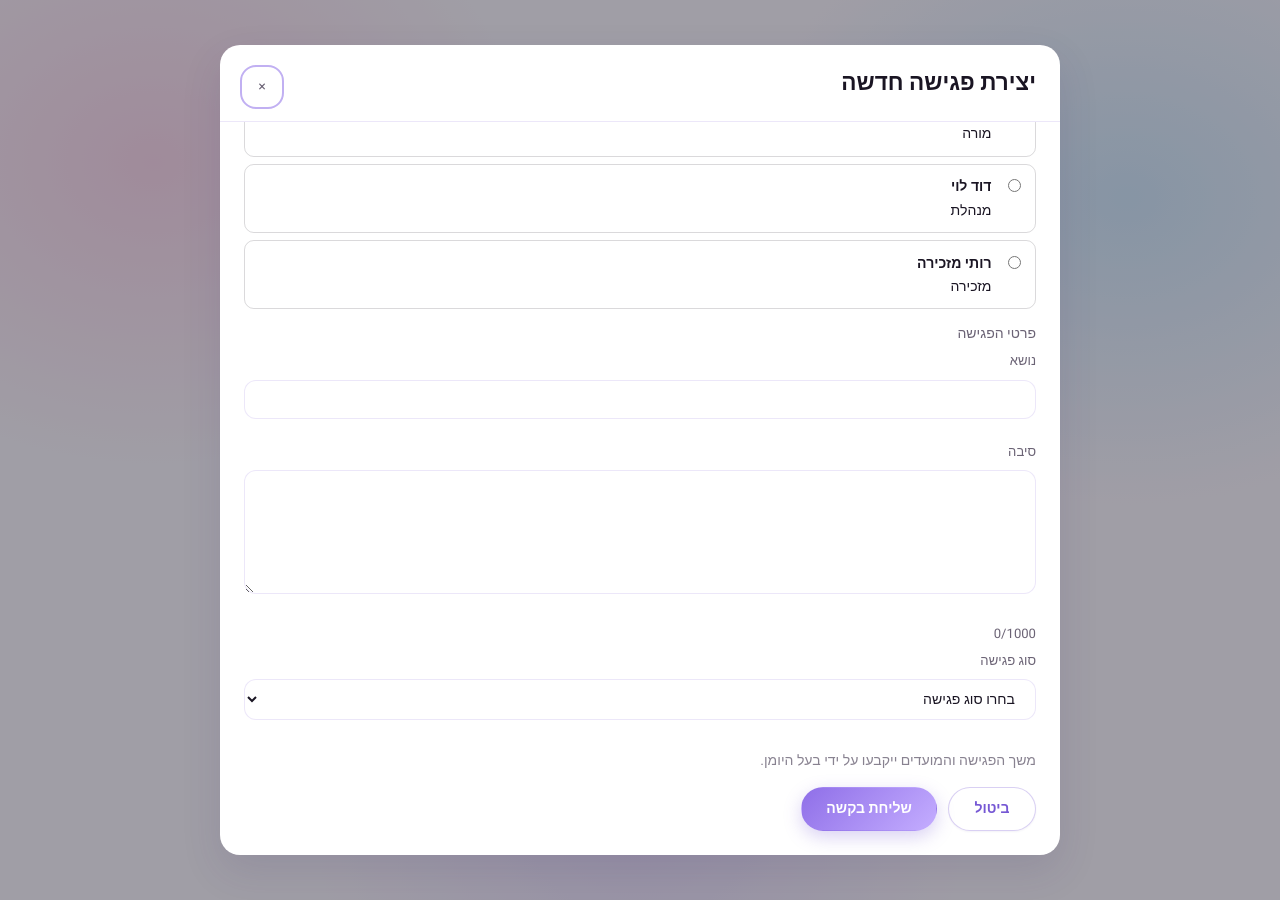
Test: CreateMeetingModal UI › shows auto Meet message and never exposes manual URL for online
(page scrolled)
Select "מקוונת (Google Meet)" in the dropdown labelled "סוג פגישה": {"x": 640, "y": 700} [244,679,1036,720]
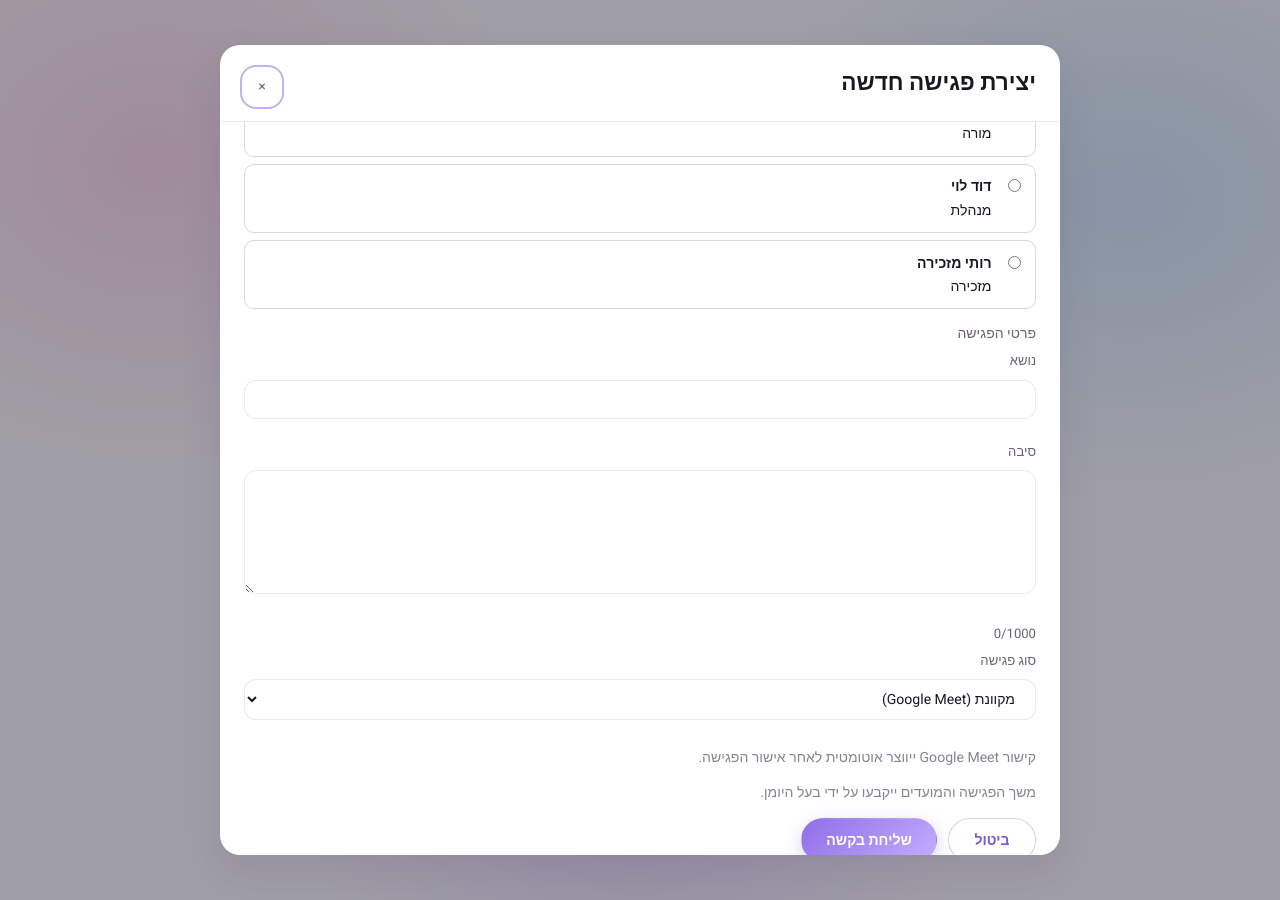
expect the text "קישור Google Meet ייווצר אוטומטית לאחר אישור הפגישה." is shown: met, box [698,747,1036,768]
